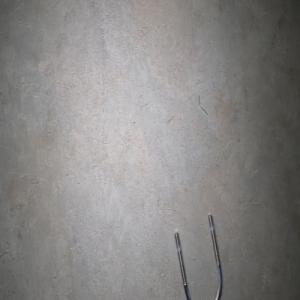ClampPart: (173, 212, 223, 300)
